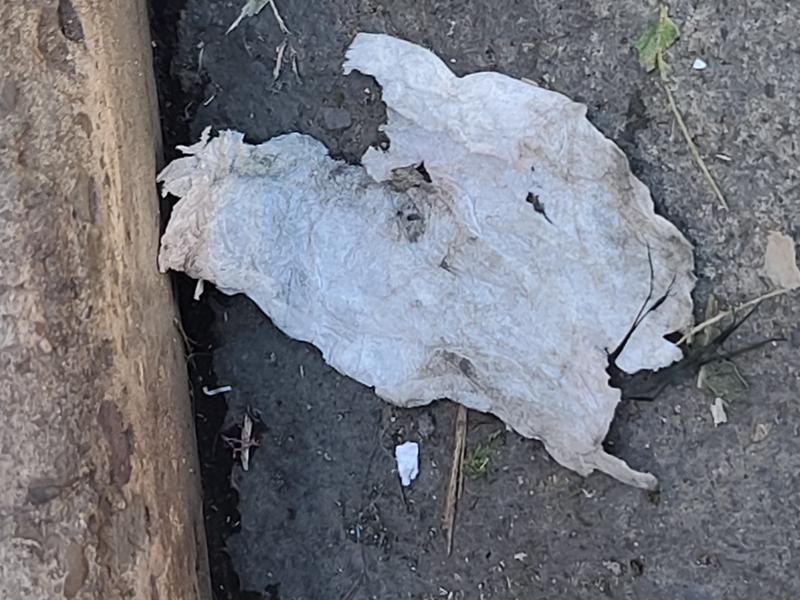papel: (155, 33, 697, 492)
